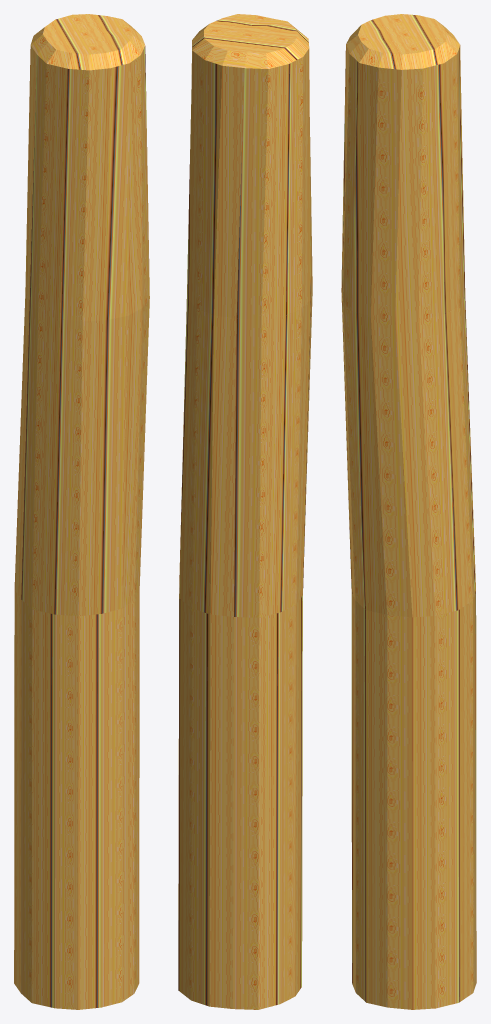
File: Torch-Post.fbx
3 views of the same model, side by side, from view 1: azimuth 90°, elevation 25°; view 2: azimuth 150°, elevation 25°; view 3: azimuth 270°, elevation 25° (orthographic).
Visible parts, largest first — view 1: Crooked-Post; view 2: Crooked-Post; view 3: Crooked-Post.
Part boxes in pixels (x1=…): Crooked-Post: x1=14, y1=14, x2=149, y2=1009; Crooked-Post: x1=178, y1=14, x2=312, y2=1009; Crooked-Post: x1=341, y1=14, x2=476, y2=1009.
Bounding box in the file's own units: 283 × 2265 × 292.
1 material, 1 textured.
